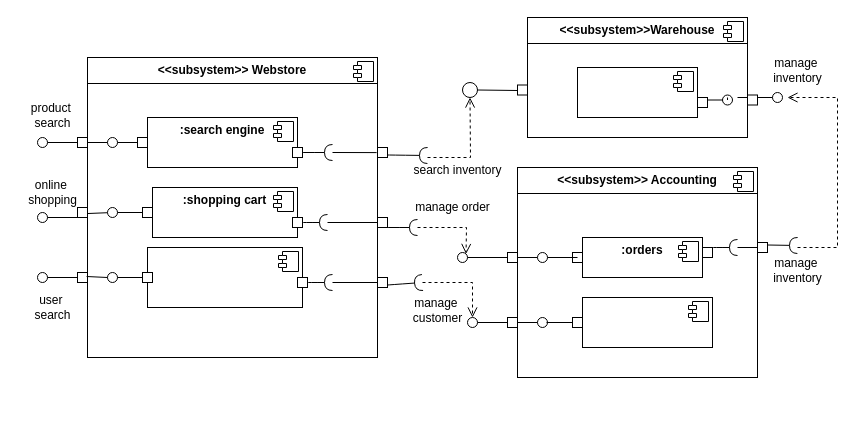
Some shapes in this 865 by 445 pixel diagram are drawn without their labels. The centre of each missing label's shape, as x and y in pixels:
:authentication: the point at 224,277
:customers: the point at 647,322
:inventory: the point at 637,92
